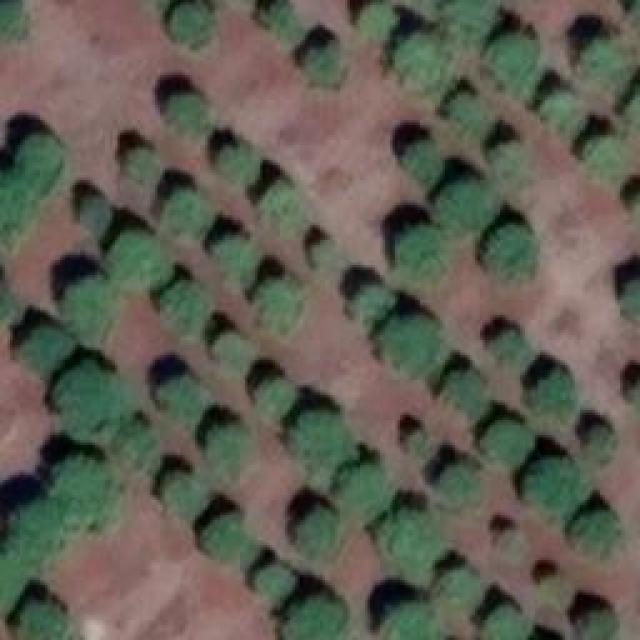Tree: (55, 360, 131, 443), (47, 453, 118, 529), (518, 448, 585, 526), (378, 510, 446, 580), (333, 453, 393, 526), (154, 475, 226, 533), (385, 23, 450, 87), (58, 275, 124, 337), (2, 498, 61, 566), (298, 30, 359, 94), (378, 310, 438, 375), (165, 185, 231, 242), (385, 222, 448, 281), (433, 175, 493, 236), (295, 415, 355, 473), (13, 122, 62, 193), (215, 137, 270, 195), (587, 32, 640, 89), (208, 225, 262, 280), (168, 0, 224, 51), (163, 278, 216, 330), (588, 135, 640, 187), (440, 370, 491, 423), (448, 0, 504, 48), (15, 592, 72, 639), (0, 178, 40, 244), (485, 215, 532, 271), (533, 83, 587, 130), (160, 90, 209, 141), (205, 417, 257, 464), (20, 318, 66, 371), (113, 235, 166, 280), (0, 552, 33, 622), (528, 358, 576, 406), (255, 275, 302, 324), (382, 600, 441, 639), (397, 130, 443, 180), (497, 38, 543, 88), (110, 425, 159, 471), (208, 328, 255, 375), (437, 460, 483, 505), (478, 415, 522, 462), (343, 278, 385, 327), (488, 138, 530, 187), (200, 510, 244, 556), (292, 597, 339, 640), (152, 370, 198, 413), (440, 565, 482, 612), (265, 185, 308, 230), (490, 323, 535, 364), (243, 568, 290, 607), (128, 143, 170, 186), (293, 510, 334, 554), (255, 376, 297, 418), (448, 90, 489, 131), (305, 233, 345, 275), (487, 607, 537, 640), (587, 498, 619, 549), (350, 0, 392, 37), (253, 0, 293, 37), (0, 0, 35, 41), (538, 568, 574, 605), (575, 602, 610, 640), (78, 193, 106, 236), (578, 428, 612, 462), (500, 533, 531, 563), (617, 280, 639, 322), (623, 90, 640, 137), (408, 428, 432, 456)
